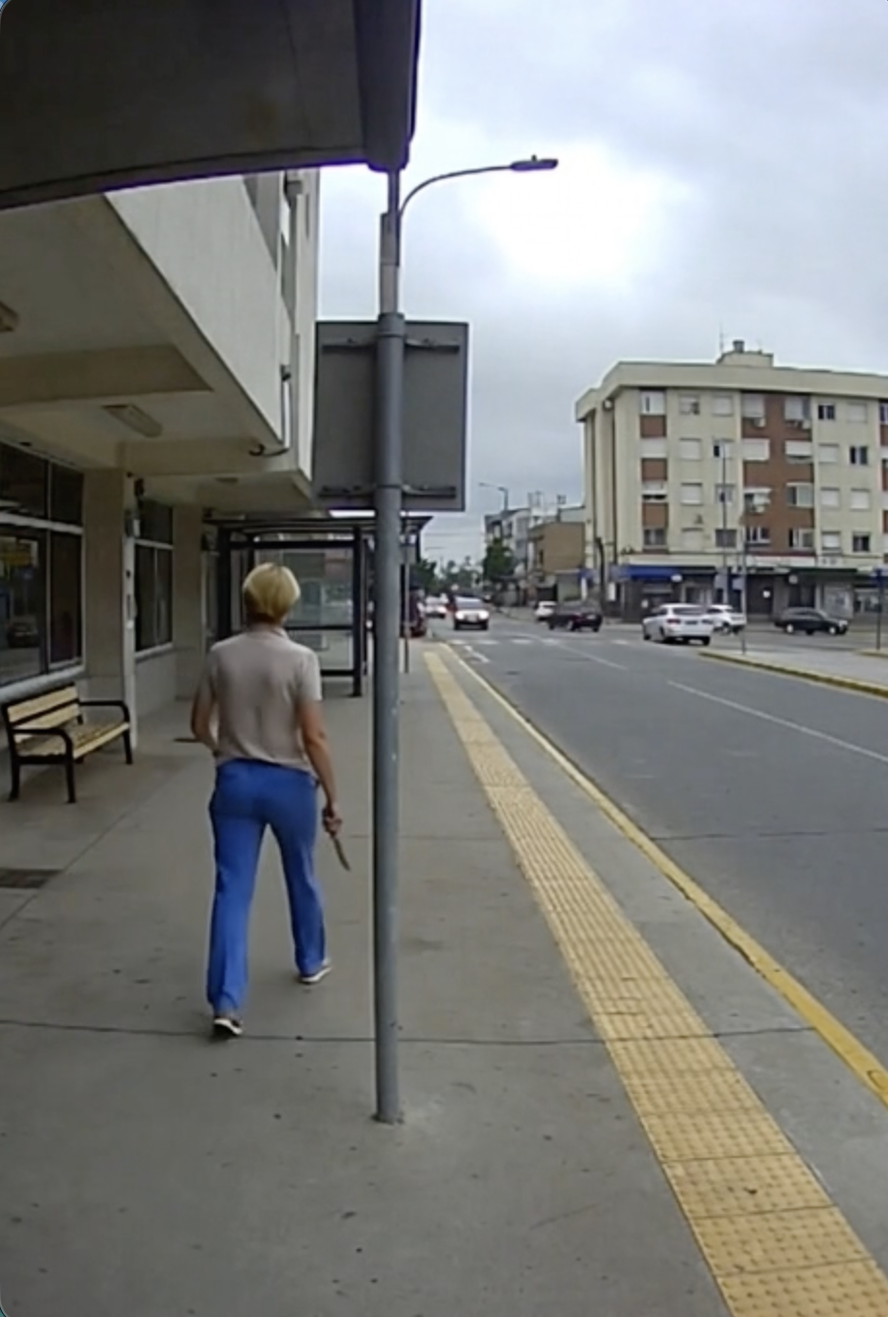Heavy Gun: (179, 565, 339, 1041)
Knife: (316, 800, 354, 876)
